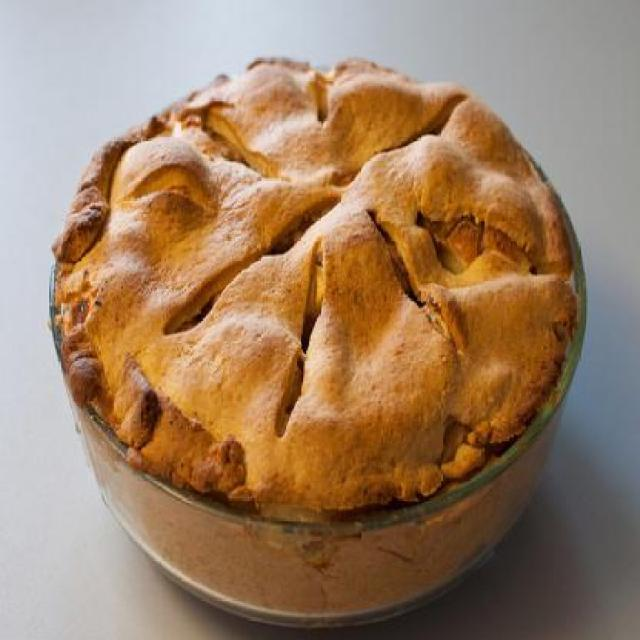Apple: (58, 60, 584, 502)
